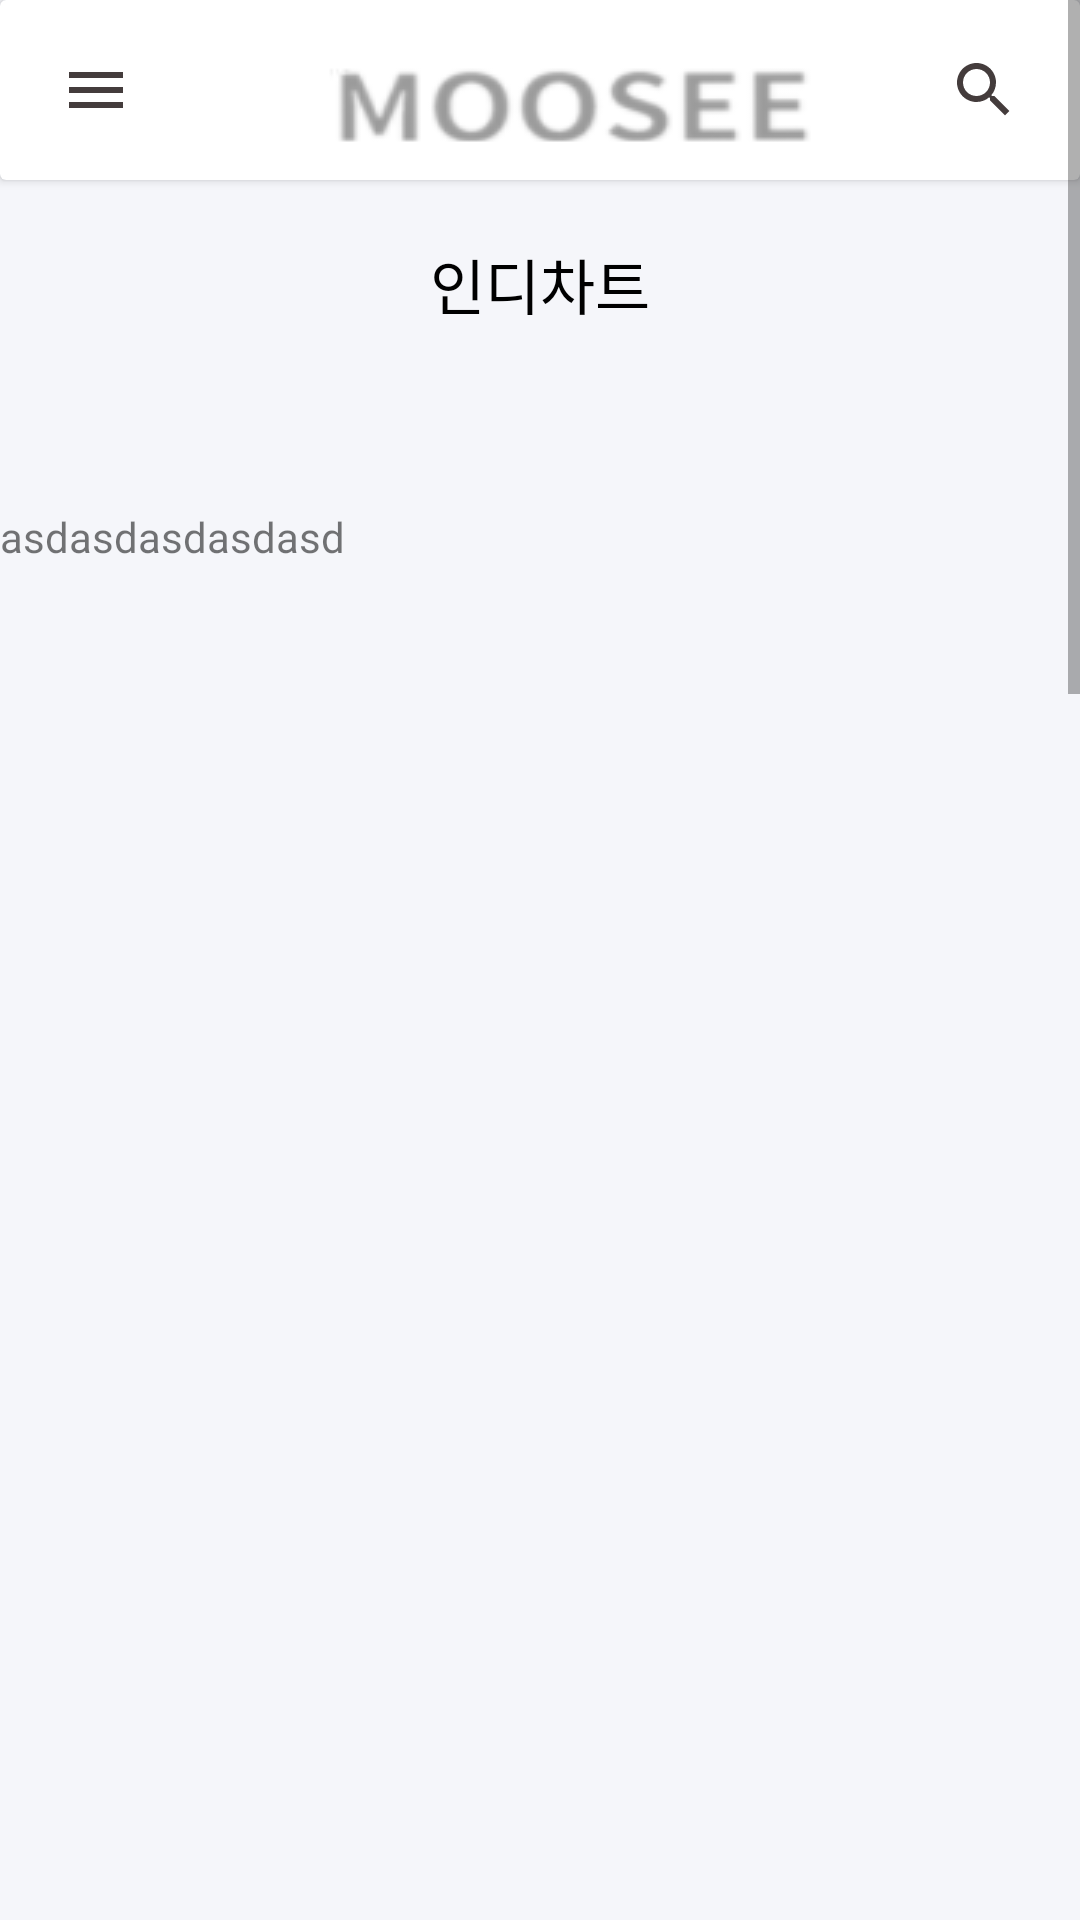

Where to tap for icons on this 1080 x 1920 app screen, as (x,y):
menu: (96,90)
search: (983,89)
